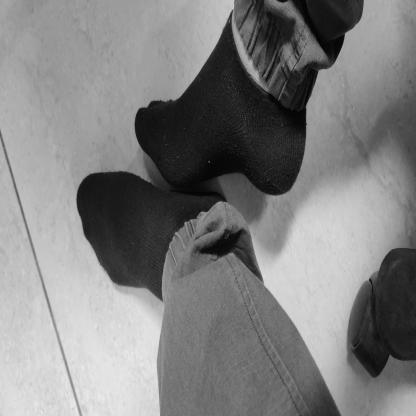ankle: (192, 227, 201, 236), (246, 89, 252, 97)
heel: (279, 160, 284, 173), (212, 199, 215, 205)
left_foot: (76, 179, 231, 316)
pinky: (116, 272, 123, 279), (168, 103, 171, 108)
right_foot: (135, 9, 313, 183)
toe: (85, 189, 88, 201), (144, 123, 149, 130)
